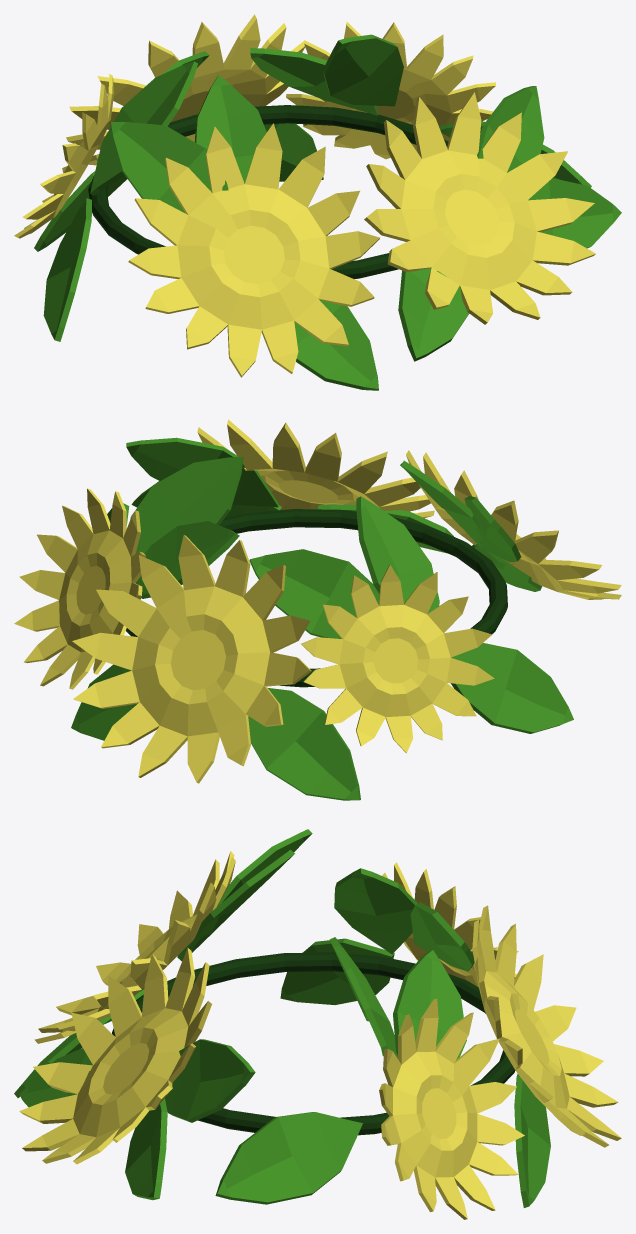
Rendered from sunflower.fbx.
The picture shows the model from 3 angles, top to bottom: view 1: azimuth 30°, elevation 25°; view 2: azimuth 150°, elevation 25°; view 3: azimuth 270°, elevation 25°; orthographic projection. The views are drawn at different scales.
Parts seen in each view (by area): view 1: flower4, flower5, flower1, flower2, Torus.001, Circle.014, Circle.022, Circle.012, Circle.018, Circle.013, Circle.017, flower3 (+7 smaller); view 2: flower2, flower3, flower1, flower5, Circle.019, Circle.011, Circle.022, Torus.001, flower4, Circle.010, Circle.018, Circle.015 (+7 smaller); view 3: flower5, flower1, flower2, Circle.021, Torus.001, flower4, Circle.015, Circle.018, Circle.023, Circle.011, Circle.020, Circle.016 (+7 smaller).
Boxes of the visible parts, x1,y1,x2,y2 form: flower4: (128, 123, 379, 377); flower5: (364, 92, 595, 324); flower1: (286, 22, 495, 159); flower2: (66, 14, 305, 165); Torus.001: (88, 105, 448, 279); Circle.014: (110, 122, 228, 213); Circle.022: (322, 34, 403, 106); Circle.012: (294, 299, 378, 390); Circle.018: (90, 61, 197, 195); Circle.013: (195, 75, 266, 191); Circle.017: (398, 268, 469, 361); flower3: (14, 74, 114, 238); flower2: (72, 535, 311, 783); flower3: (301, 564, 494, 753); flower1: (14, 488, 145, 689); flower5: (197, 419, 434, 518); Circle.019: (248, 688, 360, 800); Circle.011: (451, 643, 573, 733); Circle.022: (130, 457, 243, 553); Torus.001: (126, 509, 507, 687); flower4: (406, 450, 621, 599); Circle.010: (249, 549, 379, 638); Circle.018: (356, 496, 439, 613); Circle.015: (126, 437, 278, 507); flower5: (19, 948, 211, 1164); flower1: (379, 998, 524, 1219); flower2: (472, 905, 621, 1147); Circle.021: (215, 1112, 362, 1204); Torus.001: (112, 952, 515, 1135); flower4: (34, 851, 235, 1043); Circle.015: (165, 1039, 255, 1122); Circle.018: (334, 868, 417, 954); Circle.023: (393, 950, 466, 1059); Circle.011: (280, 938, 394, 1004); Circle.020: (514, 1073, 550, 1207); Circle.016: (125, 1098, 167, 1200).
Size of the model in its own units: 109 by 50.03 by 110.
